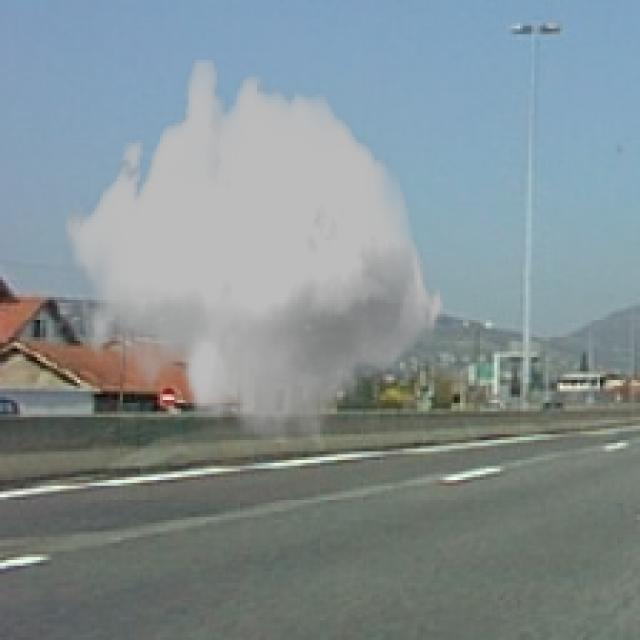smoke: (63, 60, 446, 443)
